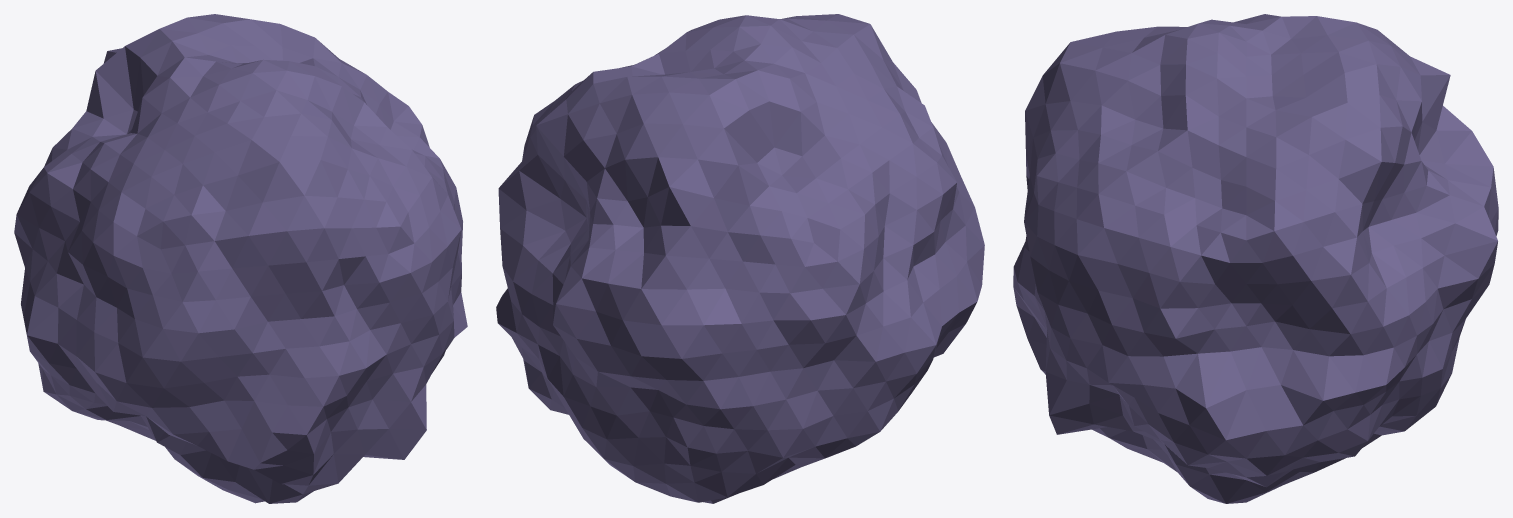
Rendered from asteroid-2.glb.
The picture shows the model from 3 angles, left to right: view 1: azimuth 30°, elevation 25°; view 2: azimuth 150°, elevation 25°; view 3: azimuth 270°, elevation 25°; orthographic projection. The views are drawn at different scales.
Parts seen in each view (by area): view 1: asteroid; view 2: asteroid; view 3: asteroid.
Part boxes in pixels (left/top/right/bottom): asteroid: left=14, top=14, right=467, bottom=503; asteroid: left=496, top=14, right=984, bottom=503; asteroid: left=1013, top=14, right=1498, bottom=503.
Bounding box in the file's own units: 2.08 × 2.15 × 2.1.
